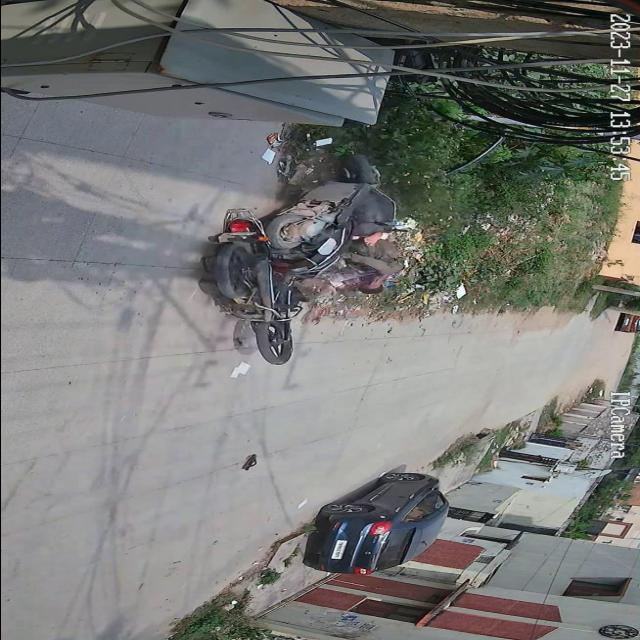accident: (199, 146, 421, 370)
